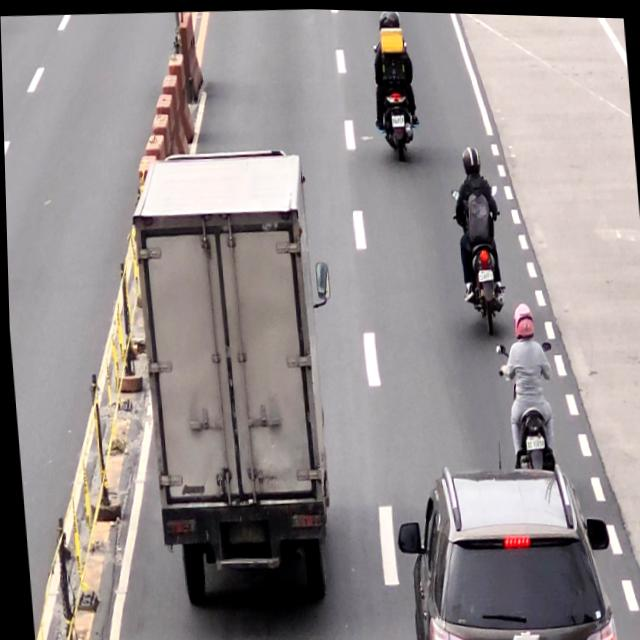Car: (389, 454, 618, 640)
License-Plate: (523, 431, 543, 450), (476, 265, 492, 281), (390, 112, 405, 126)
Motorcycle: (450, 184, 508, 337), (494, 337, 559, 470), (372, 39, 417, 165)
Truck: (127, 140, 353, 608)
